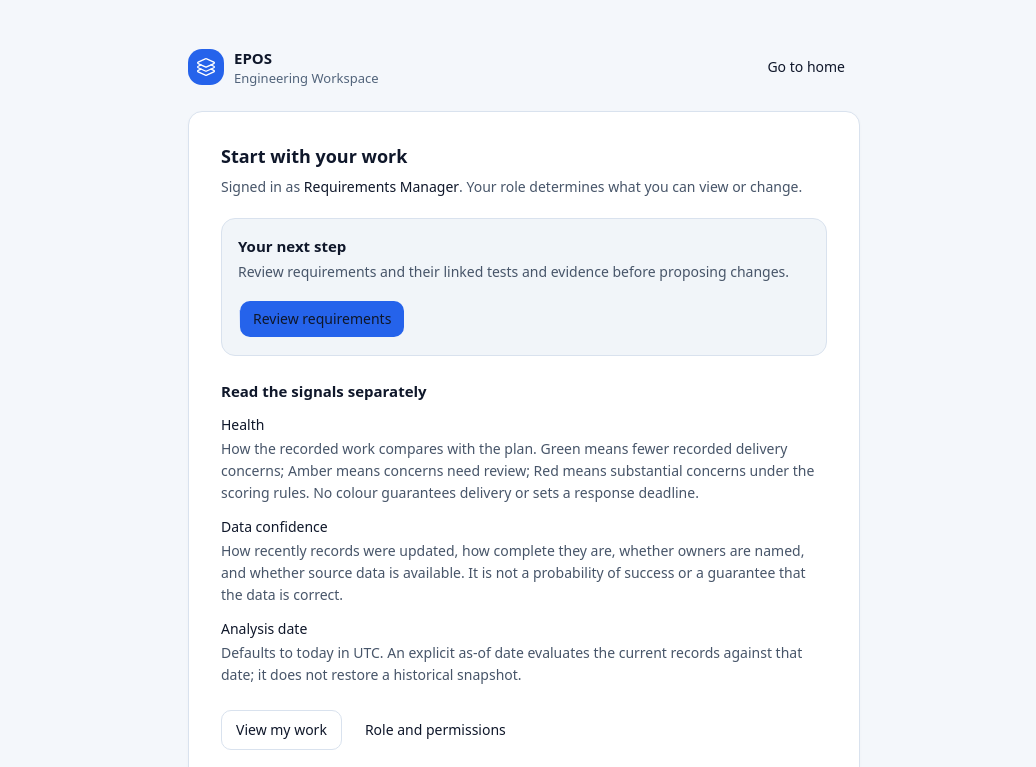
Test: OnboardingPage › provides a role-focused next step for requirements_manager
The width and height of the screenshot is (1036, 767).
Expected: the text "Requirements Manager" is shown, left=304, top=177, right=459, bottom=196
Click the button named "Review requirements" below "Your next step".
click(322, 319)  # box left=238, top=299, right=406, bottom=339
(page scrolled)
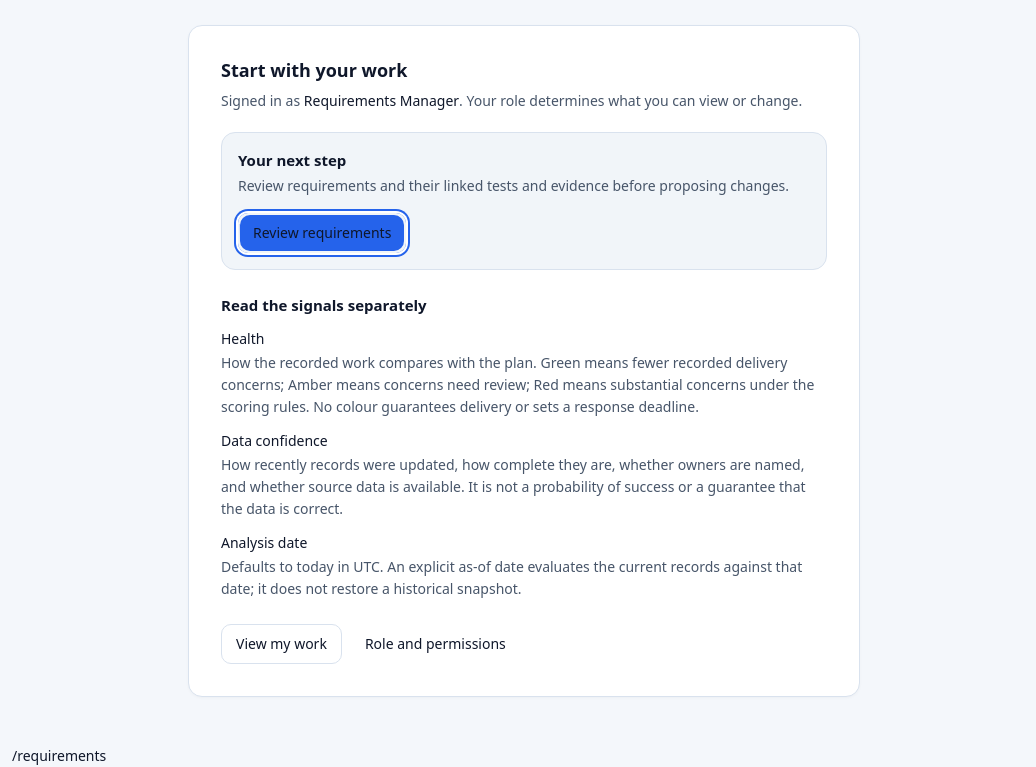
Expected: the text named "Destination" reads "/requirements", left=12, top=746, right=106, bottom=765
